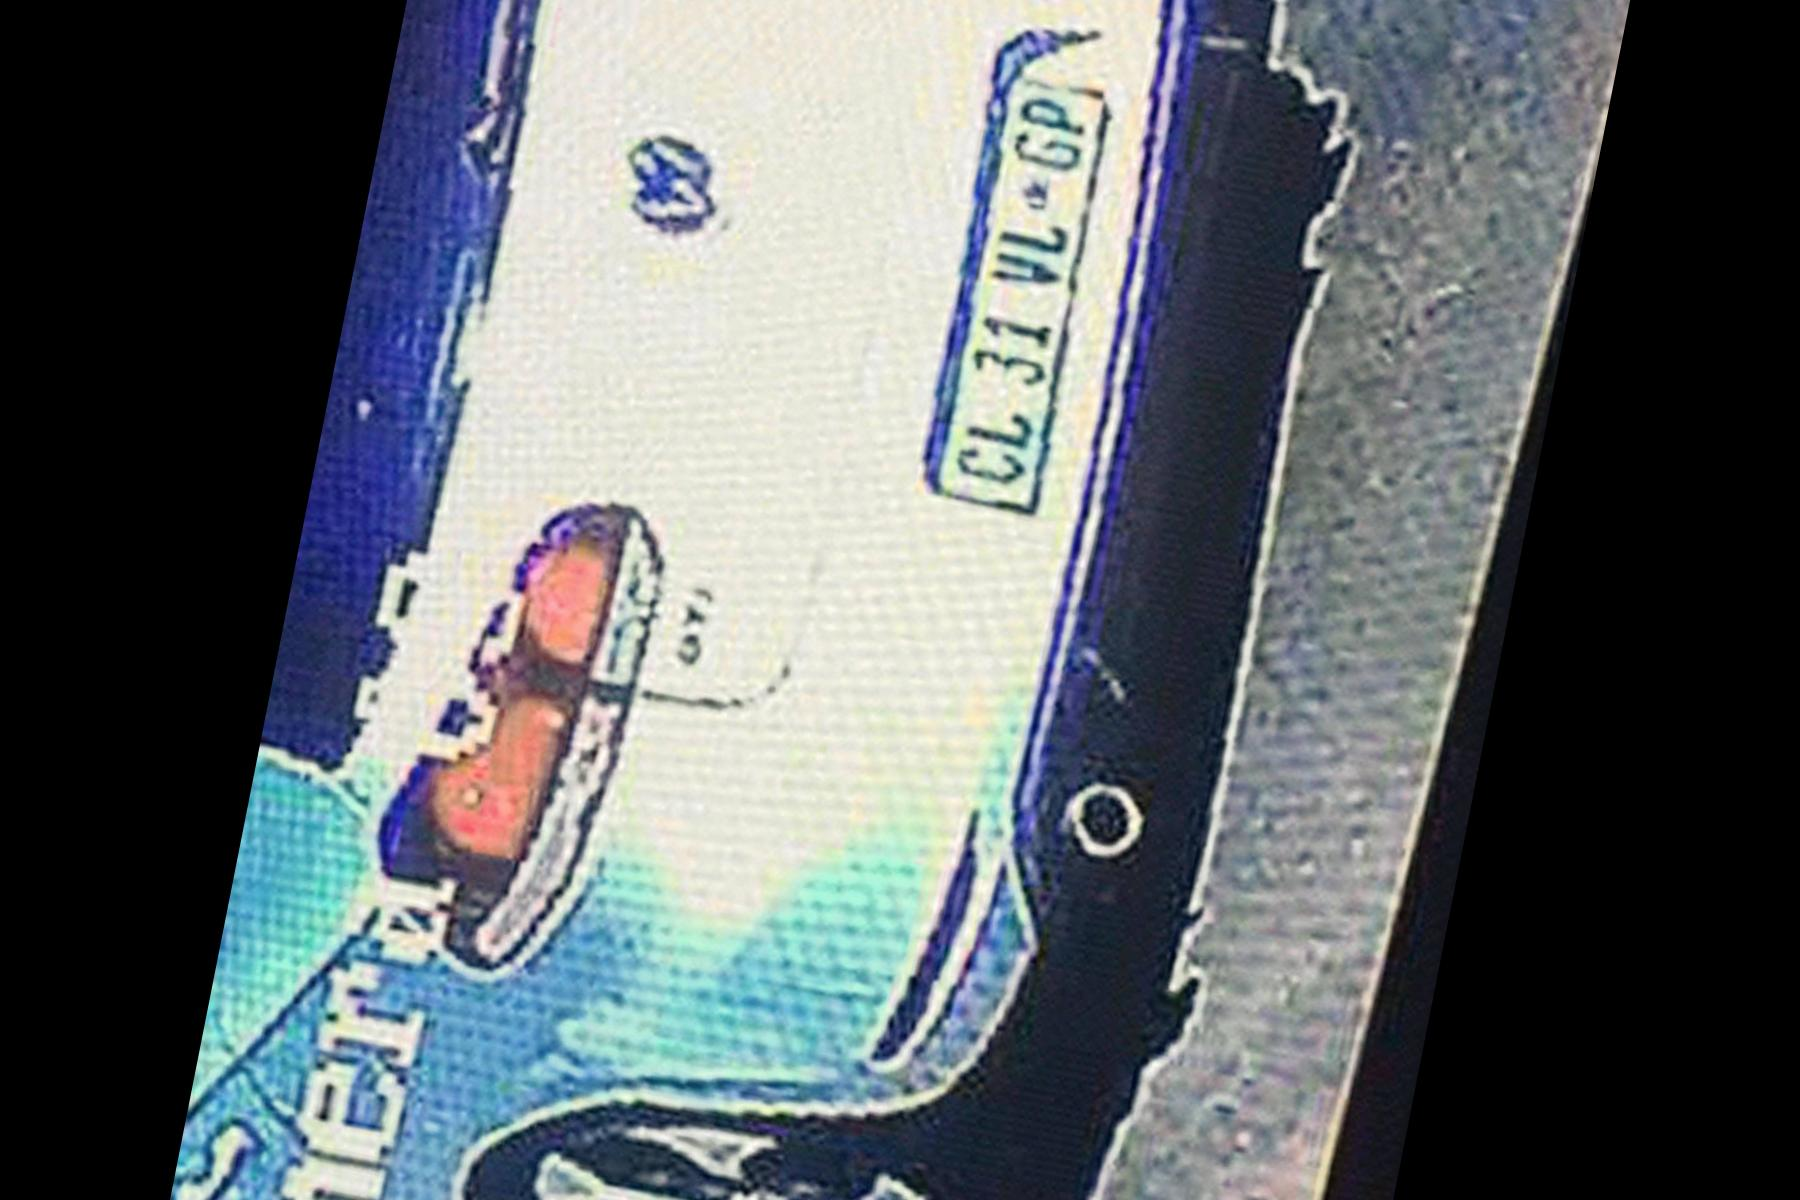plate: (891, 79, 1143, 520)
